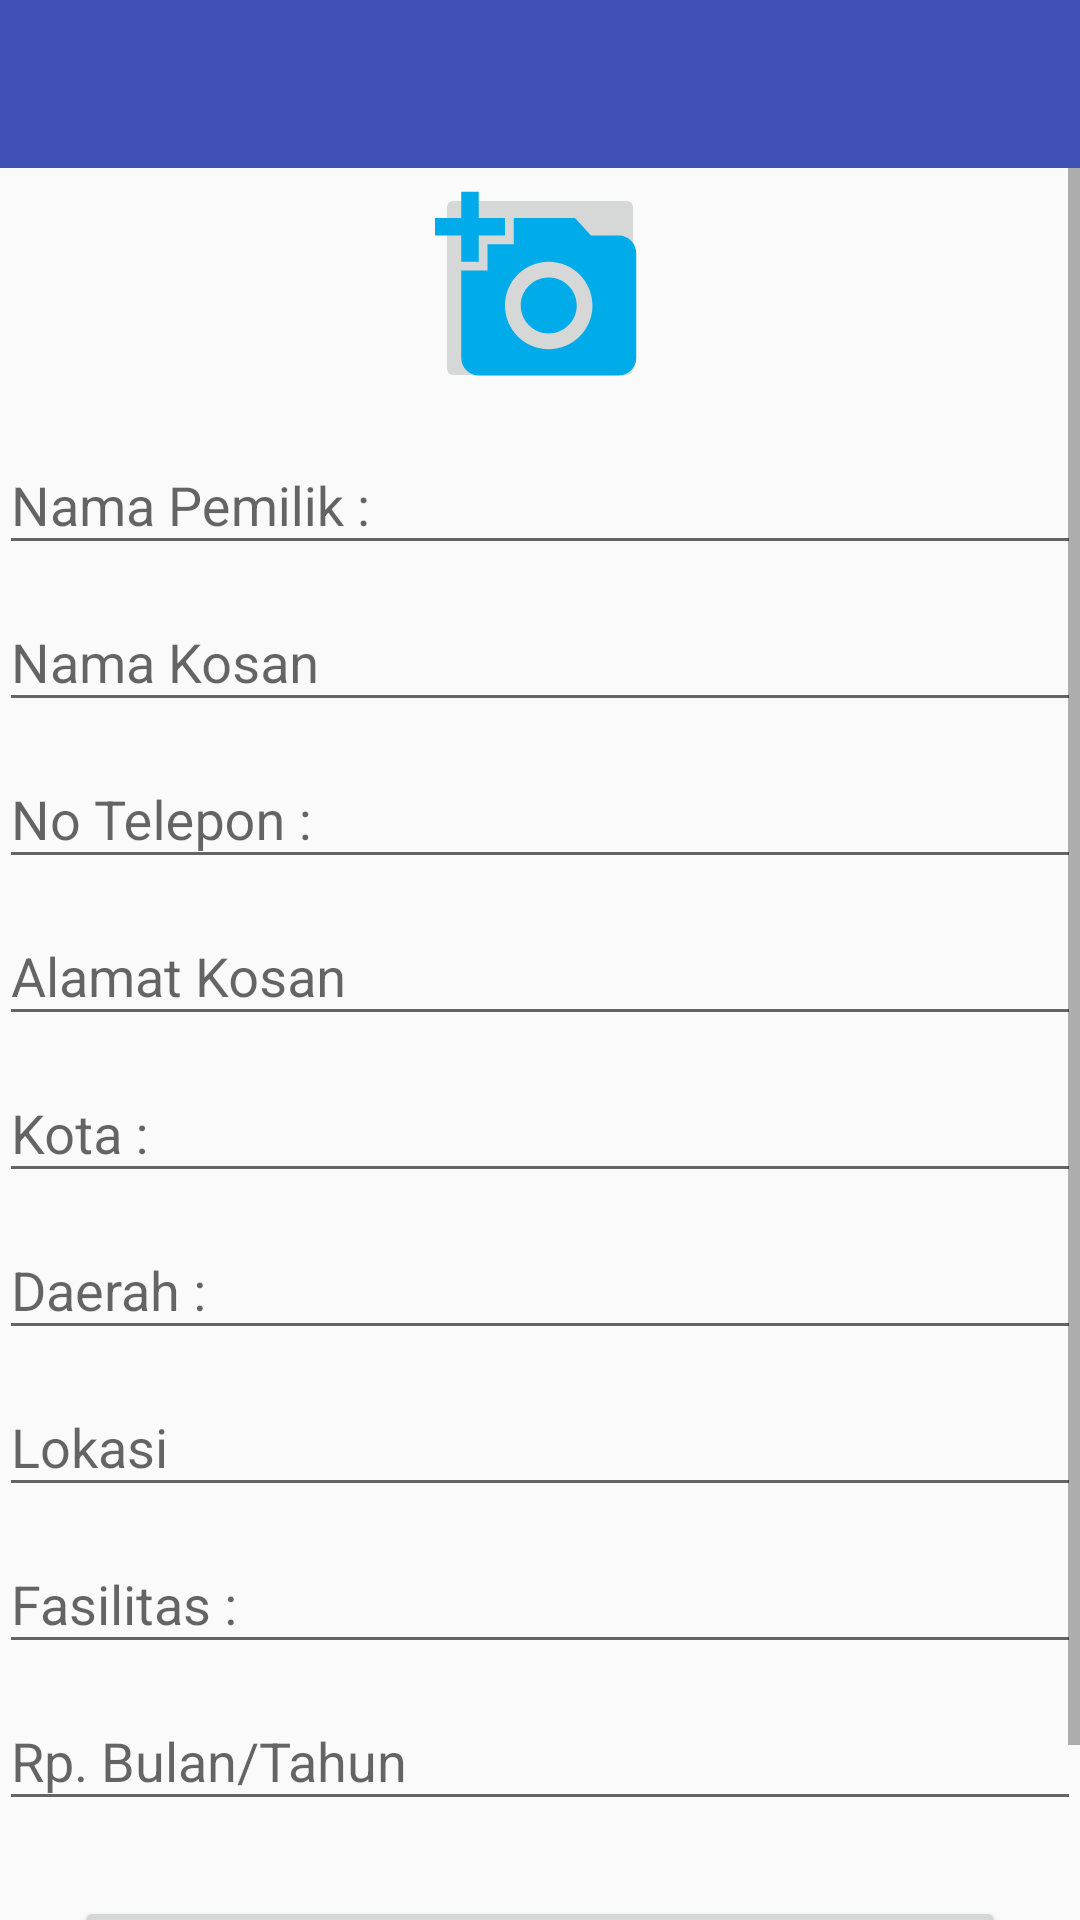

Icon bounding boxes for this 1080 x 1920 phone screenshot, format [left=x1, top=y1, right=x2, bottom=y2]:
add photo: [left=435, top=191, right=637, bottom=376]
